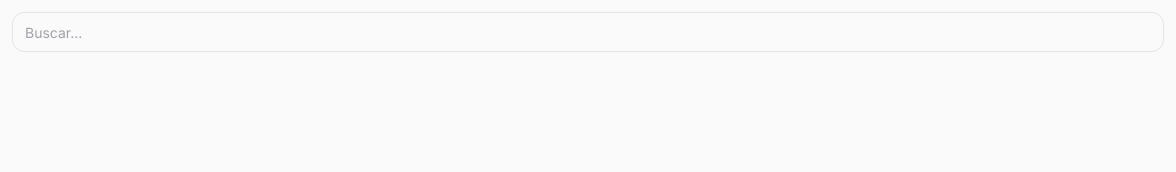
Test case: SearchBox › informa quando não há resultados
Type "qwertyuiop" into the dropdown named "Buscar Posts" at (588,32), box [12,12,1164,52]
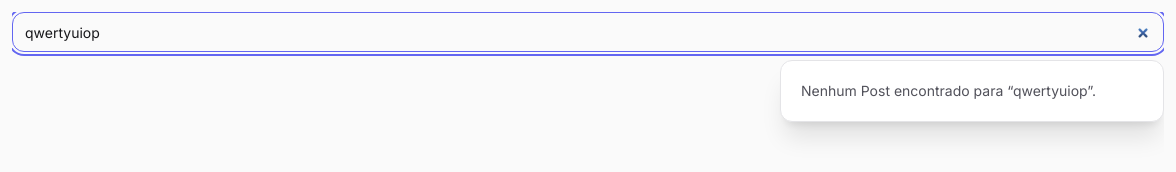
Now the text "Nenhum Post encontrado para “qwertyuiop”." is shown, box [801,82,1096,99]
